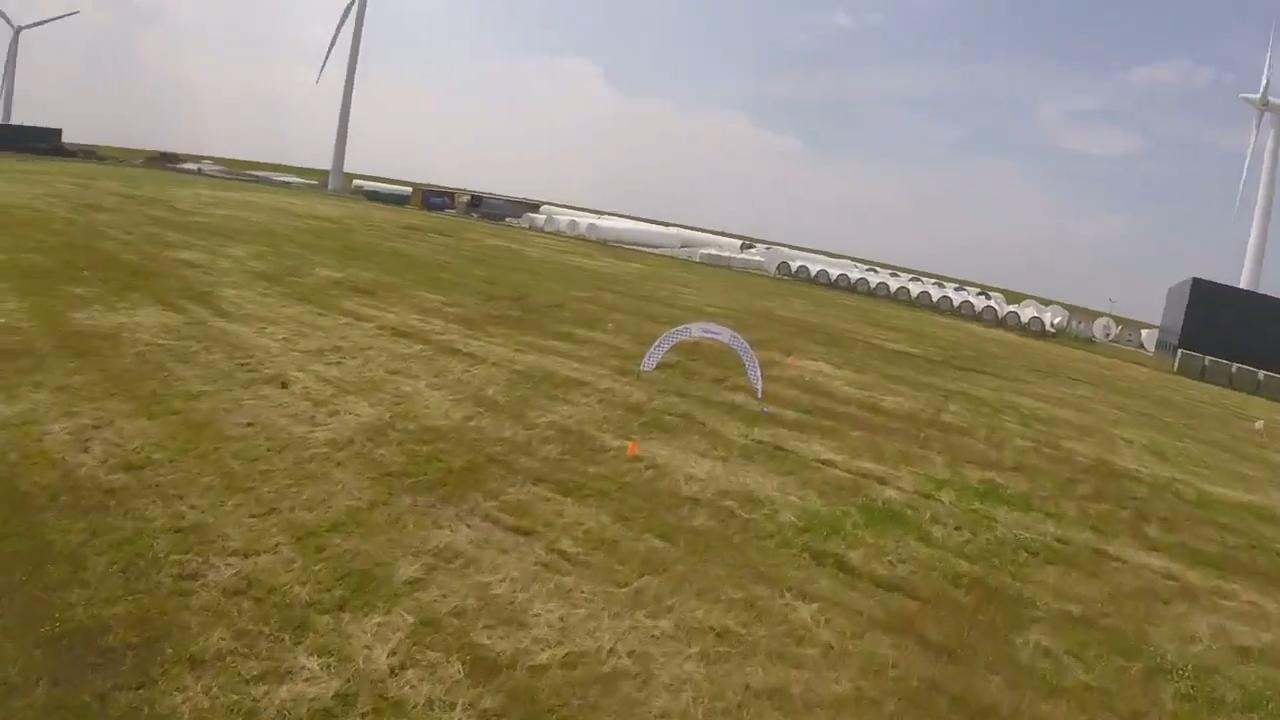gate: (638, 321, 762, 398)
